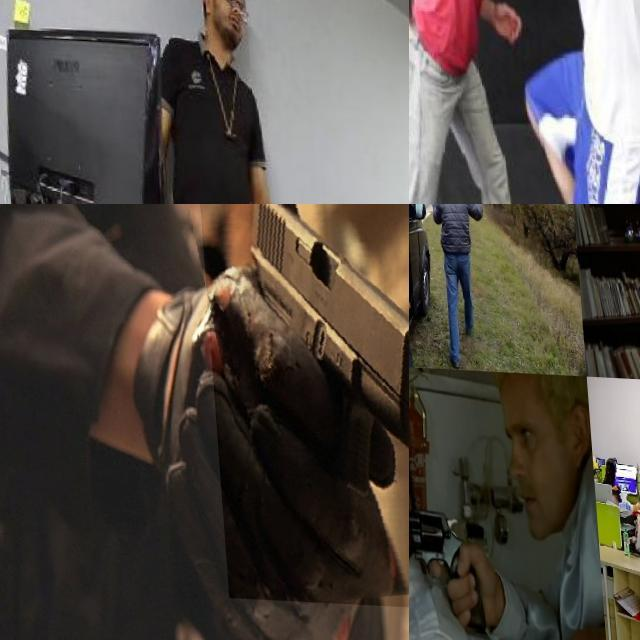-: (409, 0, 486, 49)
gun-knife-thesis - v11 Yolov5 augmented: (197, 204, 409, 605), (409, 490, 477, 633), (409, 218, 434, 318)
